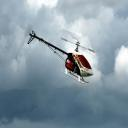helicopter: (28, 31, 96, 84)
